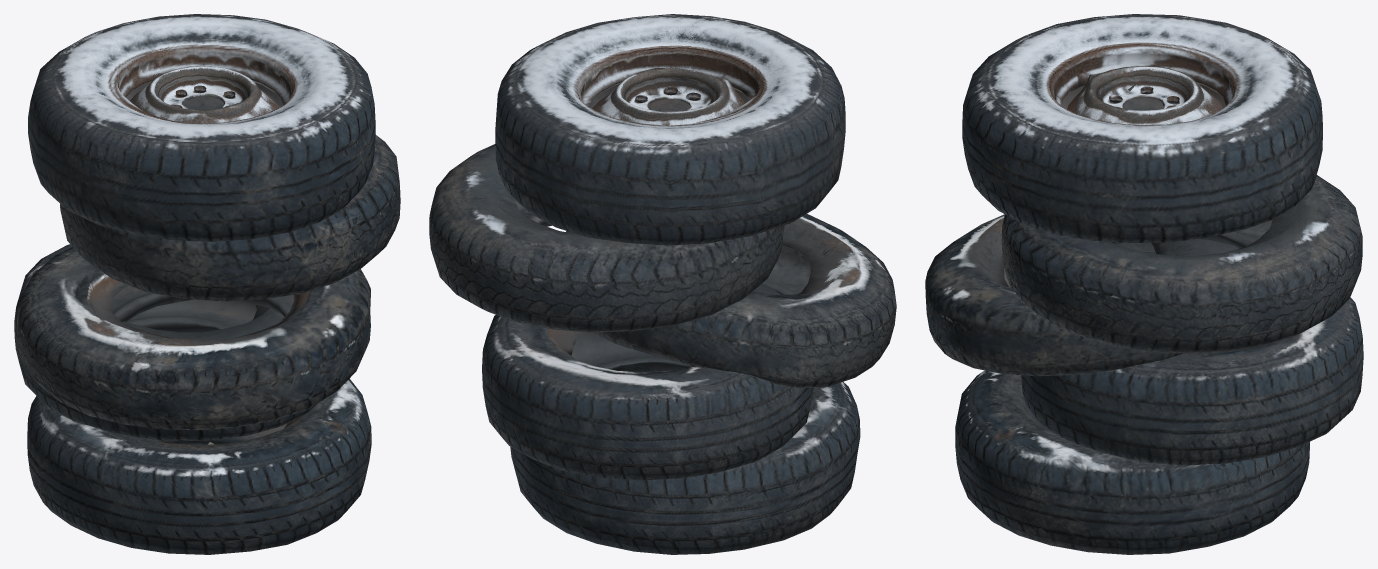
The model's file is jt_tyre_stack.glb.
The picture shows the model from 3 angles, left to right: view 1: azimuth 30°, elevation 25°; view 2: azimuth 150°, elevation 25°; view 3: azimuth 270°, elevation 25°; orthographic projection. The views are drawn at different scales.
Size of the model in its own units: 0.9111 by 0.9507 by 0.8936.
Materials: 1 (1 with a texture image).
